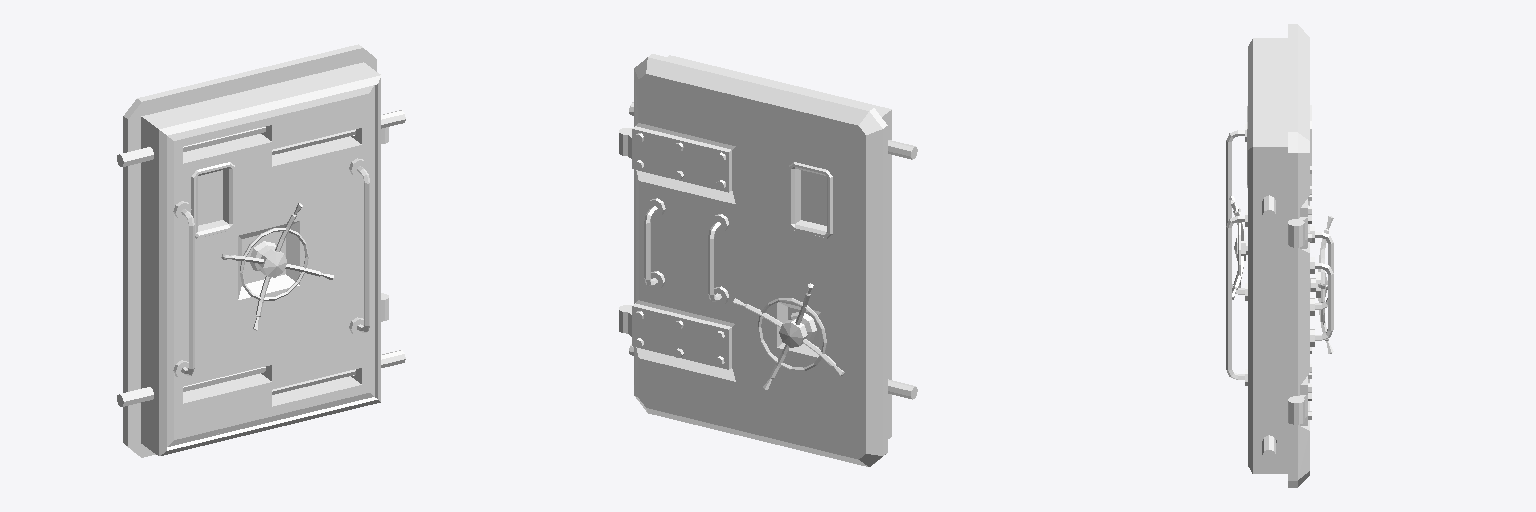
File: bunker.obj
3 views of the same model, side by side, from view 1: azimuth 30°, elevation 25°; view 2: azimuth 150°, elevation 25°; view 3: azimuth 270°, elevation 25° (orthographic).
Visible parts, largest first — view 1: OGFObject0; view 2: OGFObject0; view 3: OGFObject0.
Part boxes in pixels (left/top/right/bottom): OGFObject0: left=117, top=44, right=405, bottom=457; OGFObject0: left=619, top=54, right=917, bottom=466; OGFObject0: left=1226, top=24, right=1333, bottom=487.
Bounding box in the file's own units: 2.15 × 2.6 × 0.7127.